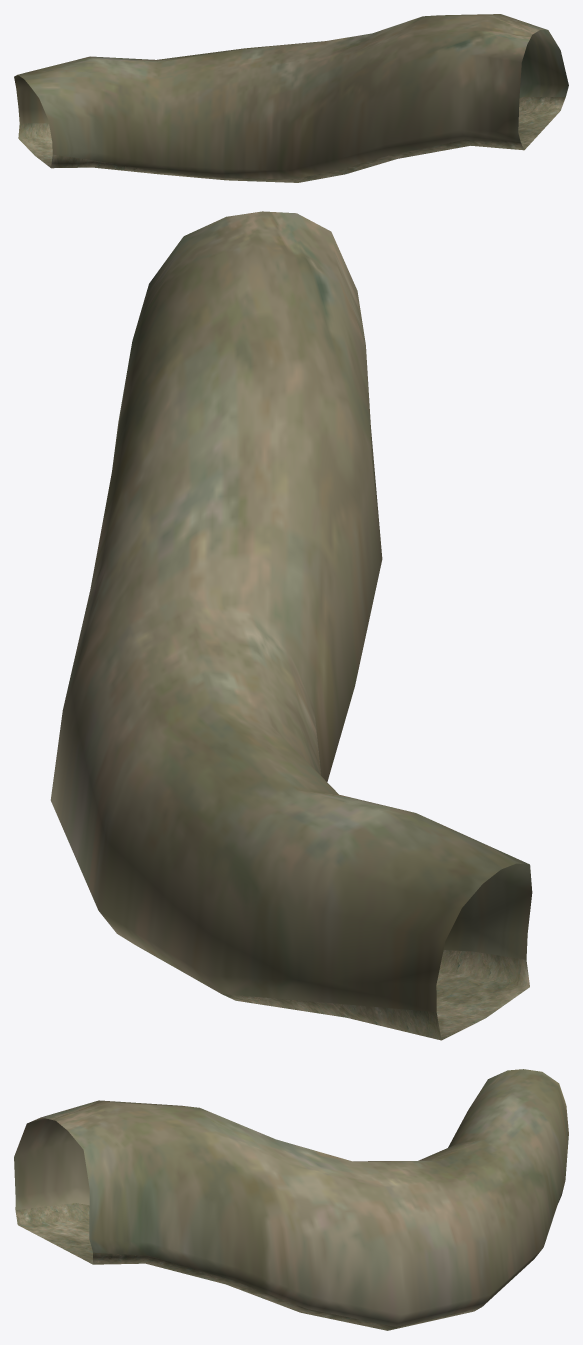
The model's file is EKH_JAIL_PS_JA_GR_LINE169.fbx.
3 renders of one model, top to bottom at view 1: azimuth 30°, elevation 25°; view 2: azimuth 150°, elevation 25°; view 3: azimuth 270°, elevation 25°, orthographic. The views are drawn at different scales.
Visible parts, largest first — view 1: EKH_JAIL_PS_JA_GR_LINE169; view 2: EKH_JAIL_PS_JA_GR_LINE169; view 3: EKH_JAIL_PS_JA_GR_LINE169.
Part boxes in pixels (bbox=[...]): EKH_JAIL_PS_JA_GR_LINE169: bbox=[14, 14, 568, 182]; EKH_JAIL_PS_JA_GR_LINE169: bbox=[50, 211, 532, 1040]; EKH_JAIL_PS_JA_GR_LINE169: bbox=[14, 1069, 568, 1330].
Size of the model in its own units: 100327 by 57628 by 109714.
Materials: 1 (1 with a texture image).
